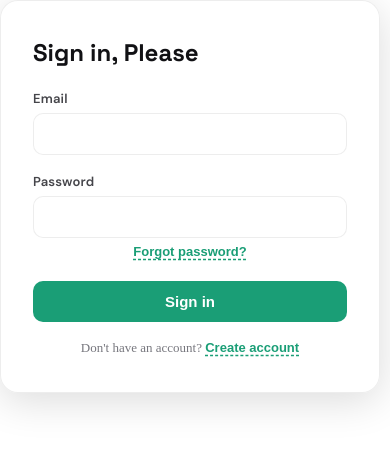
Scenario: SignInForm › shows email validation error on submit with blank email
Step 1. Click the button "Sign in" → [190, 302], box [33,281,347,322]
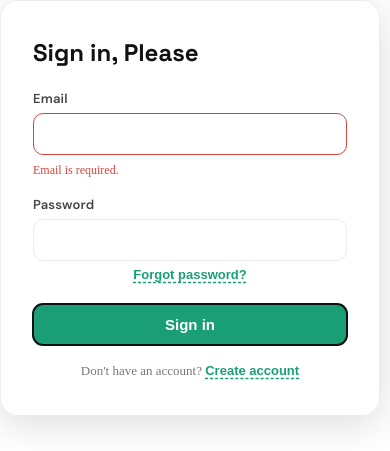
Now the text "Email is required." is shown, box [33,163,119,177]
